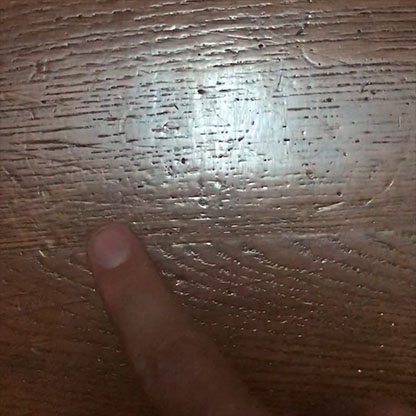fingertip: (77, 219, 152, 285)
